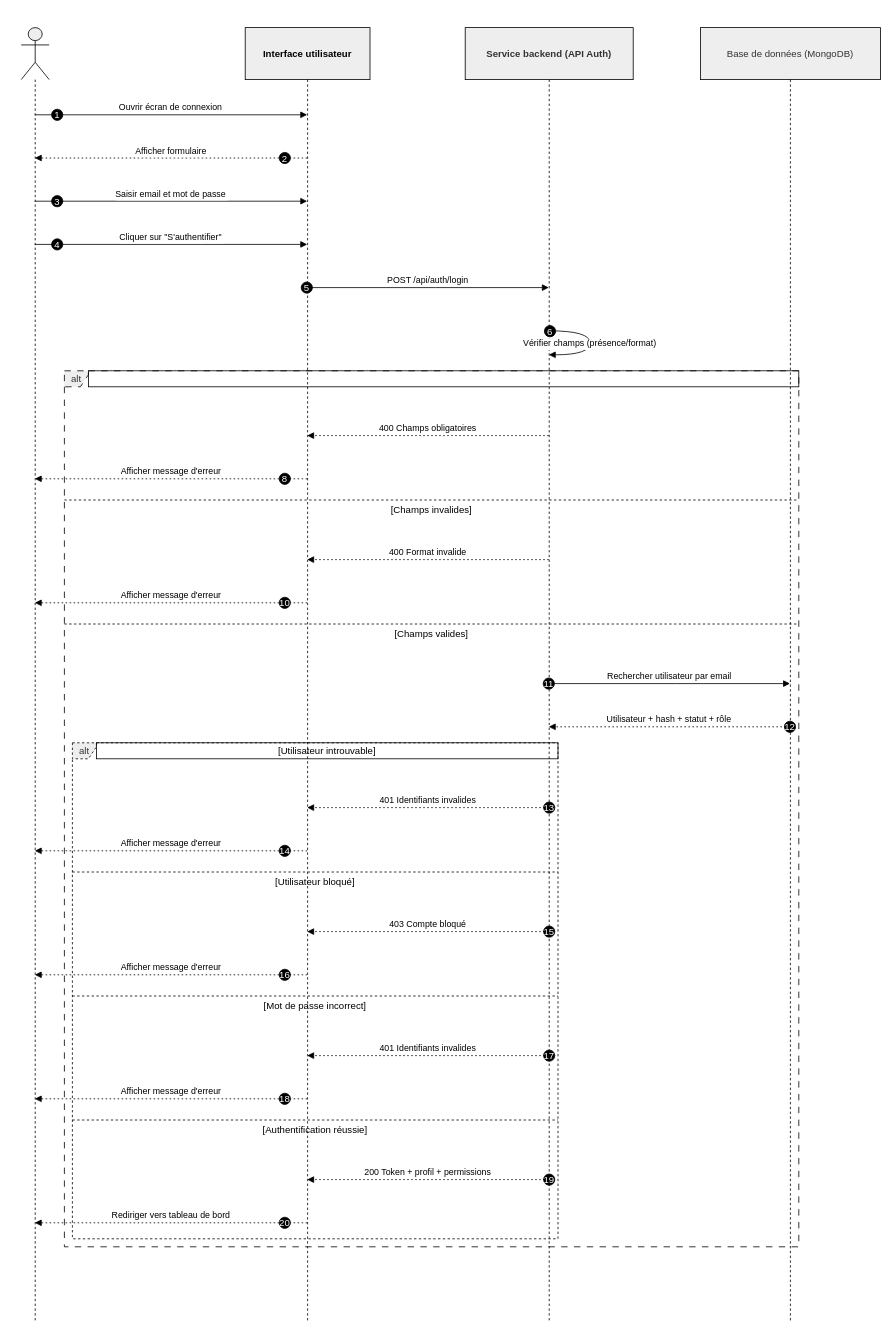
Image size: 894x1337. Some labels were removed from this diagram. Each missing label, with the box of its shape:
[Champs vides]: (88, 370, 799, 387)
Utilisateur: (20, 27, 49, 1323)
